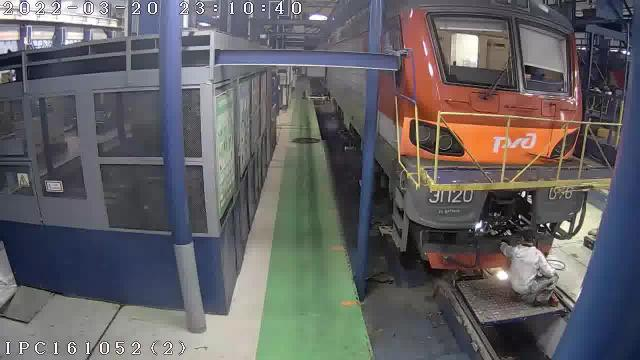person: (500, 239, 558, 305)
train: (376, 0, 586, 268)
